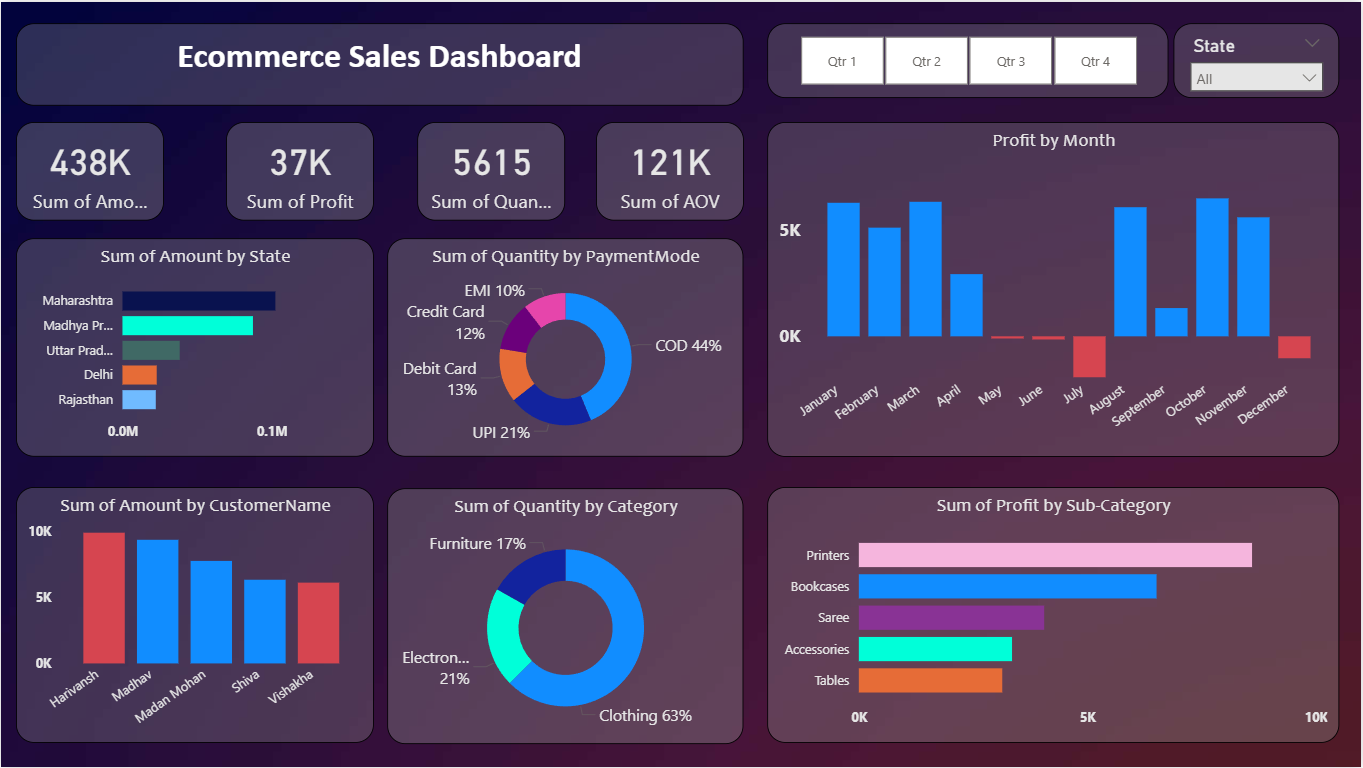

The page's visual inventory and layout, read from the dashboard file:
{"tool":"powerbi","page":{"name":"Page 1","canvas":[1280,720],"ordinal":0},"visuals":[{"type":"textbox","box":[14.4,20,684.5,77.5],"z":0},{"type":"columnChart","title":"Profit by Month","fields":{"Category":["Orders.Order Date.Variation.Date Hierarchy.Month"],"Y":["Details.Profit"]},"box":[721.4,113,538,315.5],"z":1000},{"type":"barChart","fields":{"Category":["Details.Sub-Category"],"Y":["Details.Profit"]},"box":[721.4,456.6,538,240.8],"z":2000},{"type":"donutChart","fields":{"Category":["Details.Category"],"Y":["Details.Quantity"]},"box":[363.7,458,335.2,240.8],"z":3000},{"type":"donutChart","fields":{"Y":["Details.Quantity"],"Category":["Details.PaymentMode"]},"box":[363.7,222.8,335.2,205.6],"z":4000},{"type":"card","fields":{"Values":["Details.Amount"]},"box":[14.4,113,139.4,93],"z":5000},{"type":"card","fields":{"Values":["Details.Profit"]},"box":[211.5,113,139.4,93],"z":6000},{"type":"card","fields":{"Values":["Details.Quantity"]},"box":[391.8,113,139.4,93],"z":7000},{"type":"card","fields":{"Values":["Details.AOV"]},"box":[559.4,113,139.4,93],"z":8000},{"type":"barChart","fields":{"Category":["Orders.State"],"Y":["Details.Amount"]},"box":[14.4,222.8,336.6,205.6],"z":9000},{"type":"columnChart","fields":{"Category":["Orders.CustomerName"],"Y":["Details.Amount"]},"box":[14.4,456.6,336.6,240.8],"z":10000},{"type":"slicer","fields":{"Values":["Orders.Order Date.Variation.Date Hierarchy.Quarter"]},"box":[721.4,20,377.5,70.4],"z":11000},{"type":"slicer","fields":{"Values":["Orders.State"]},"box":[1103.1,20,156.3,70.4],"z":12000}]}

Visuals, with their boxes in screenshot pixels (x1, y1, x2, y2), scaled from the page's 1280x720 canvas onto the 1363x768 screenshot:
textbox: 15,21,744,104
"Profit by Month" columnChart: 768,121,1341,457
barChart - Details.Sub-Category x Details.Profit: 768,487,1341,744
donutChart - Details.Category x Details.Quantity: 387,489,744,745
donutChart - Details.Quantity x Details.PaymentMode: 387,238,744,457
card - Details.Amount: 15,121,164,220
card - Details.Profit: 225,121,374,220
card - Details.Quantity: 417,121,566,220
card - Details.AOV: 596,121,744,220
barChart - Orders.State x Details.Amount: 15,238,374,457
columnChart - Orders.CustomerName x Details.Amount: 15,487,374,744
slicer - Orders.Order Date.Variation.Date Hierarchy.Quarter: 768,21,1170,96
slicer - Orders.State: 1175,21,1341,96
